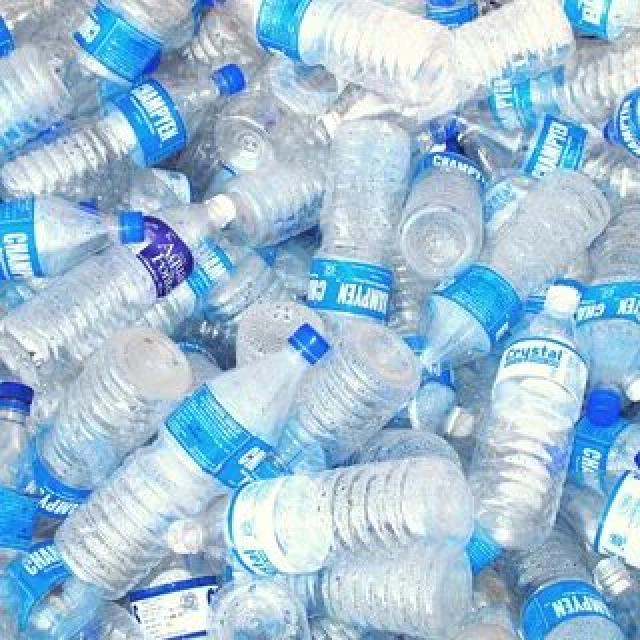blue: (2, 202, 122, 276)
